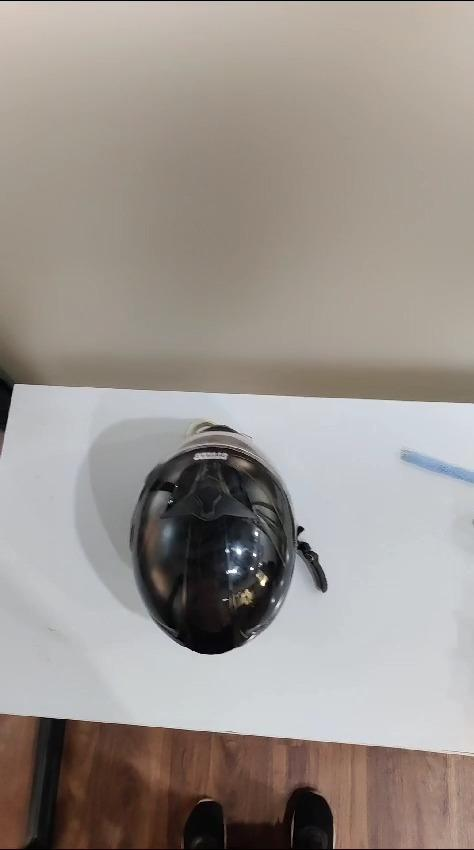Helmet: (130, 423, 326, 652)
